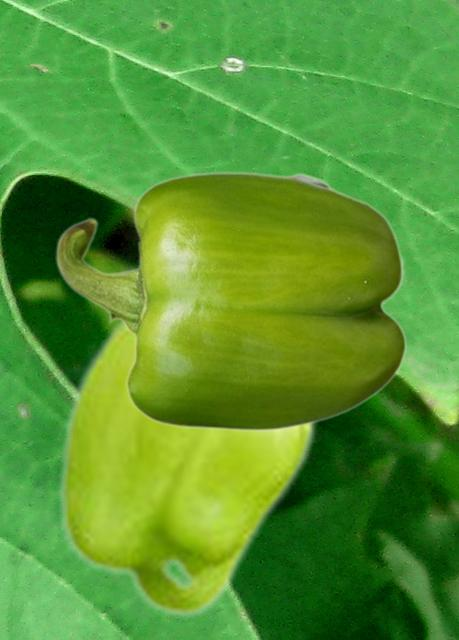bell_pepper: (56, 249, 407, 618), (55, 171, 406, 431)
